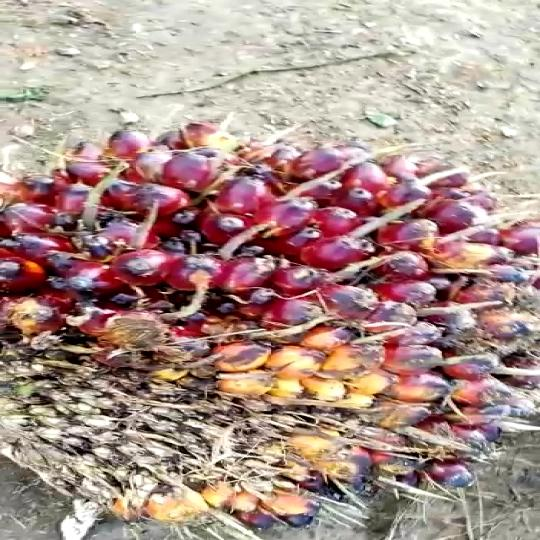kurang masak: (0, 118, 540, 540)
